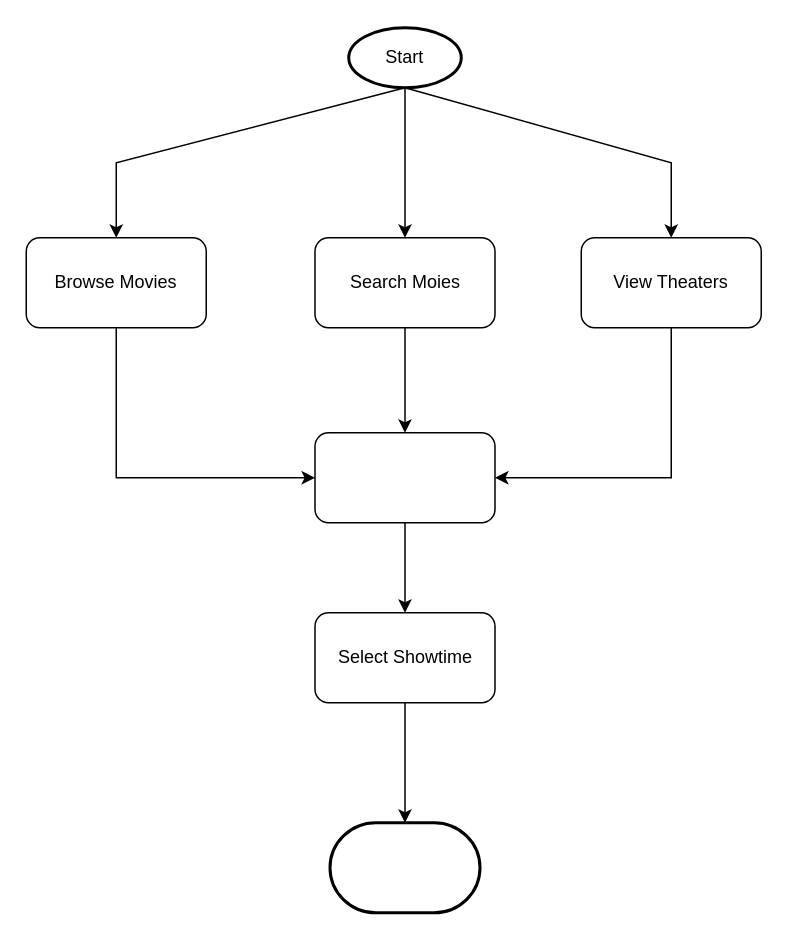
Some shapes in this 788 by 939 pixel diagram are drawn without their labels. The shapes that lost their labels are listed below. From the top down, each one's centre as x and y in pixels, then its label:
(404,477): Select Movie
(404,867): Proceed to Booking
